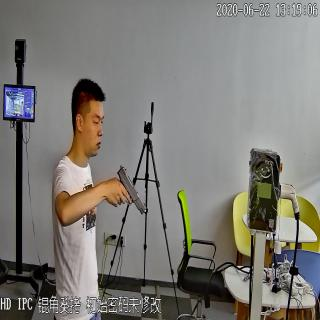gun: (110, 162, 148, 216)
